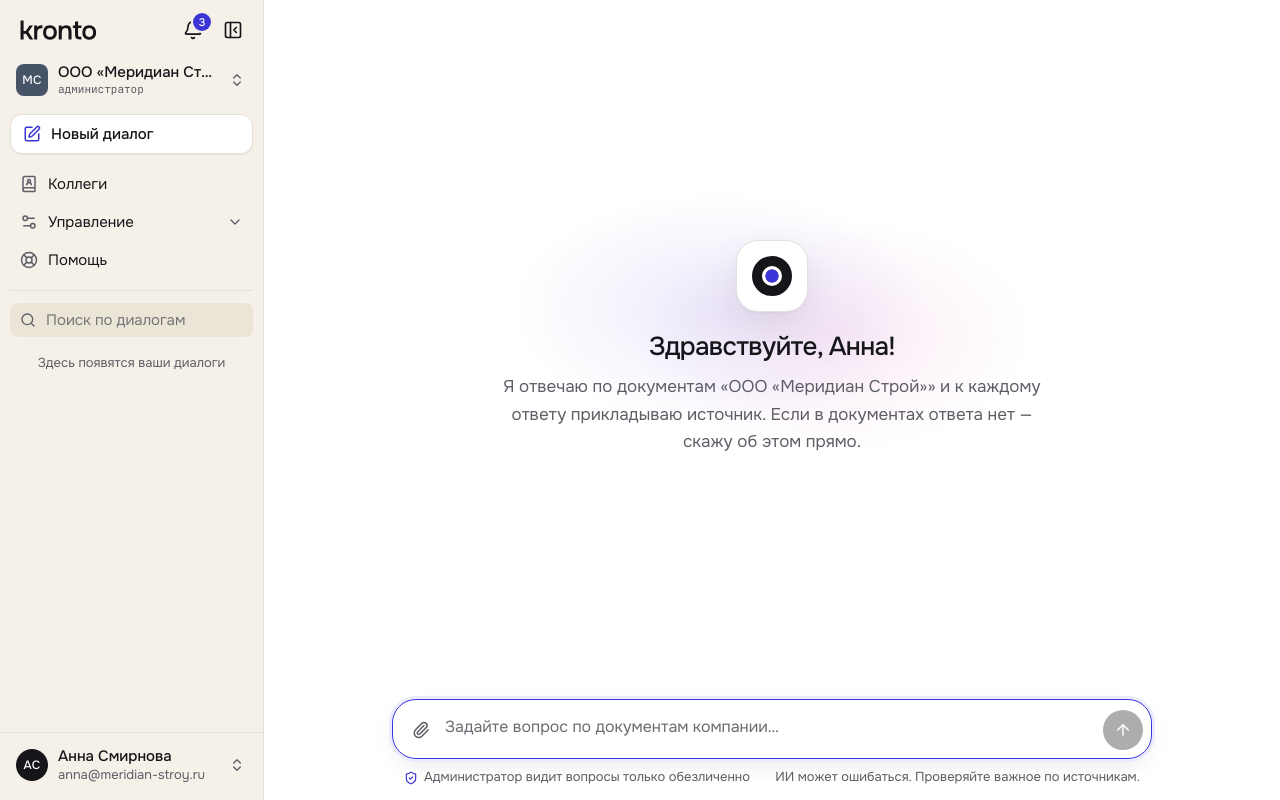
Test: колокольчик › панель: пункты по порядку, время, «Прочитать все» и настройка писем
The width and height of the screenshot is (1280, 800).
Click the button named "Уведомления: 3": (193, 30) [173,10,213,50]
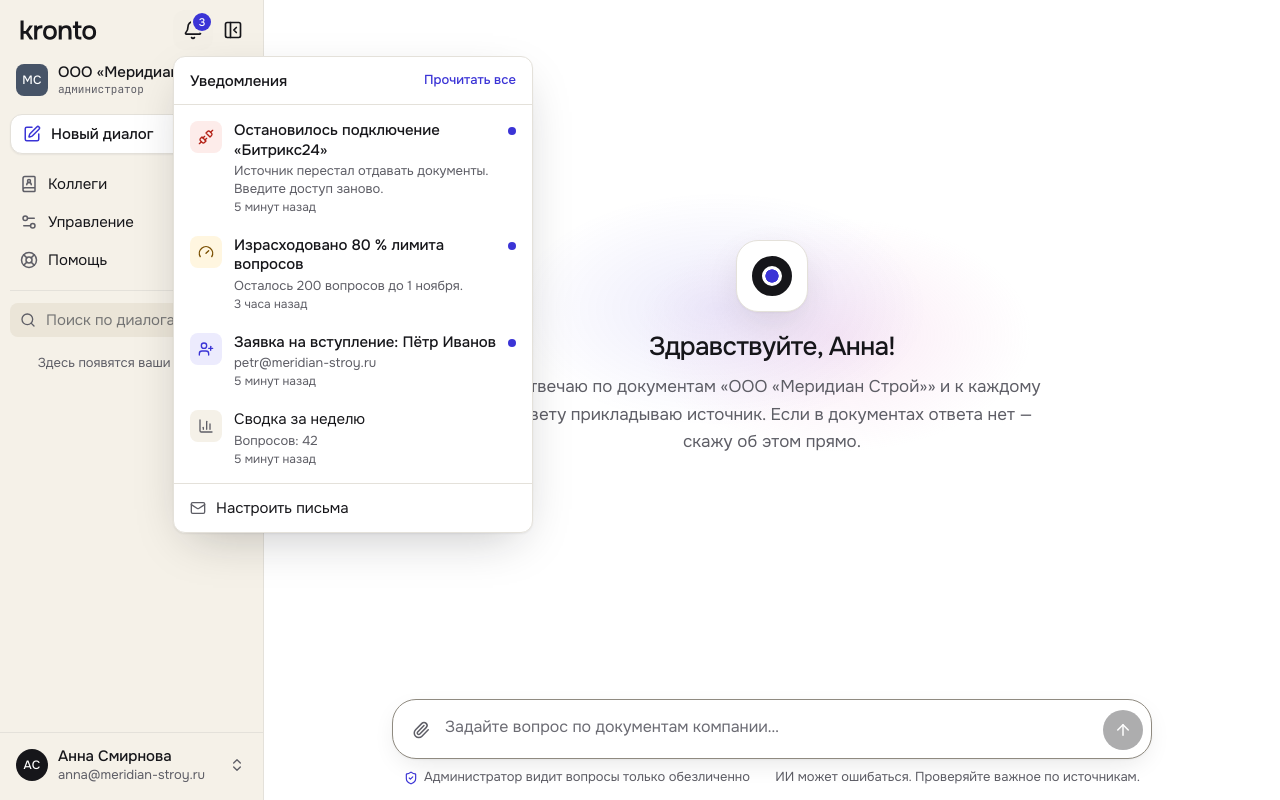
Expected: the menu item "Сводка за неделю" is shown, [190,409,365,467]
